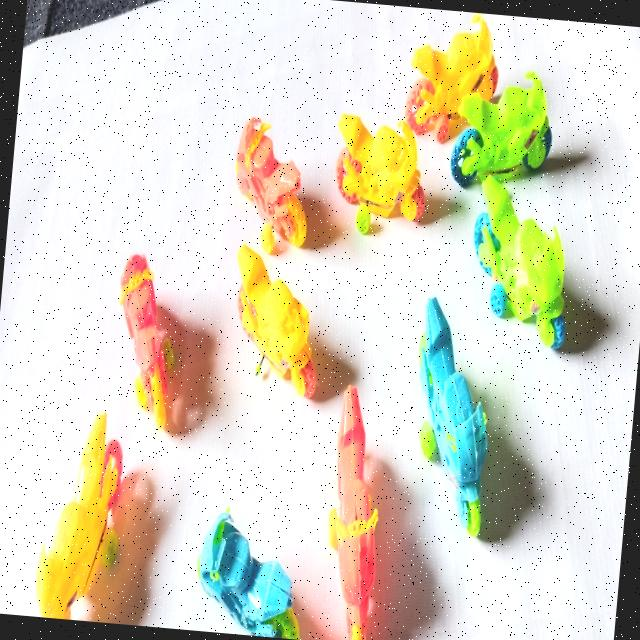bikes: (36, 413, 122, 619), (419, 297, 486, 536), (474, 175, 564, 348), (197, 513, 297, 639), (329, 385, 377, 640), (405, 12, 498, 143), (237, 244, 315, 397), (453, 71, 551, 180), (336, 114, 425, 233), (235, 117, 306, 253), (119, 254, 173, 429)
